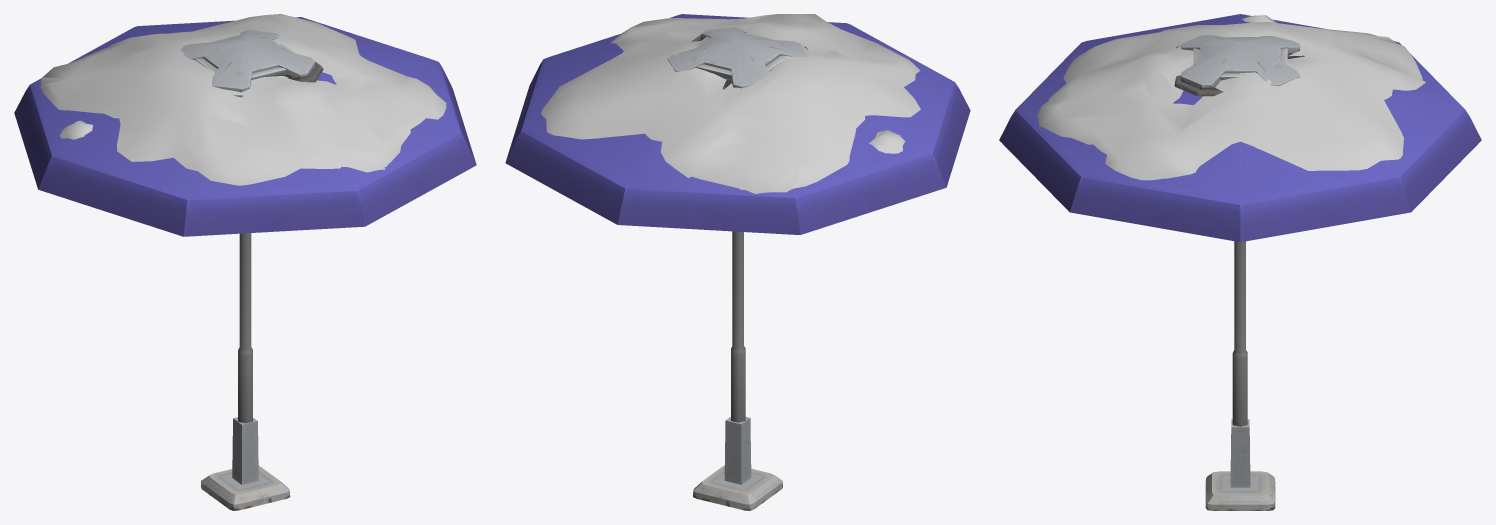
The model's file is pref_sm_city_umbrella02_lv3.fbx.
The picture shows the model from 3 angles, left to right: view 1: azimuth 30°, elevation 25°; view 2: azimuth 150°, elevation 25°; view 3: azimuth 270°, elevation 25°; orthographic projection.
Parts seen in each view (by area): view 1: sm_city_umbrella02_lv3, sm_city_umbrella02b_lv3; view 2: sm_city_umbrella02_lv3, sm_city_umbrella02b_lv3; view 3: sm_city_umbrella02_lv3, sm_city_umbrella02b_lv3.
Boxes of the visible parts, x1,y1,x2,y2 form: sm_city_umbrella02_lv3: (14, 17, 476, 510); sm_city_umbrella02b_lv3: (40, 14, 446, 185); sm_city_umbrella02_lv3: (505, 14, 970, 510); sm_city_umbrella02b_lv3: (541, 14, 920, 193); sm_city_umbrella02_lv3: (999, 14, 1481, 510); sm_city_umbrella02b_lv3: (1037, 15, 1425, 180).
Size of the model in its own units: 4.22 by 4.37 by 4.22.
